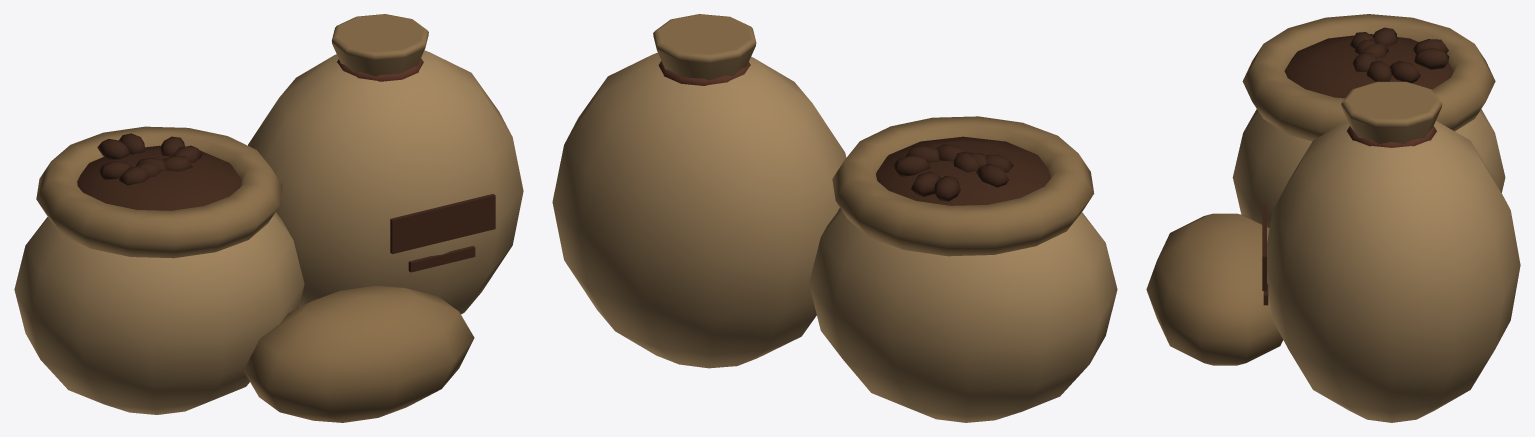
The model's file is coffee-sacks.glb.
The picture shows the model from 3 angles, left to right: view 1: azimuth 30°, elevation 25°; view 2: azimuth 150°, elevation 25°; view 3: azimuth 270°, elevation 25°; orthographic projection. The views are drawn at different scales.
Parts seen in each view (by area): view 1: coffee-sacks; view 2: coffee-sacks; view 3: coffee-sacks.
Part boxes in pixels (<box>): coffee-sacks: <box>14,14,523,422</box>; coffee-sacks: <box>552,14,1117,422</box>; coffee-sacks: <box>1146,14,1520,422</box>.
Size of the model in its own units: 0.76 by 0.45 by 0.494.
